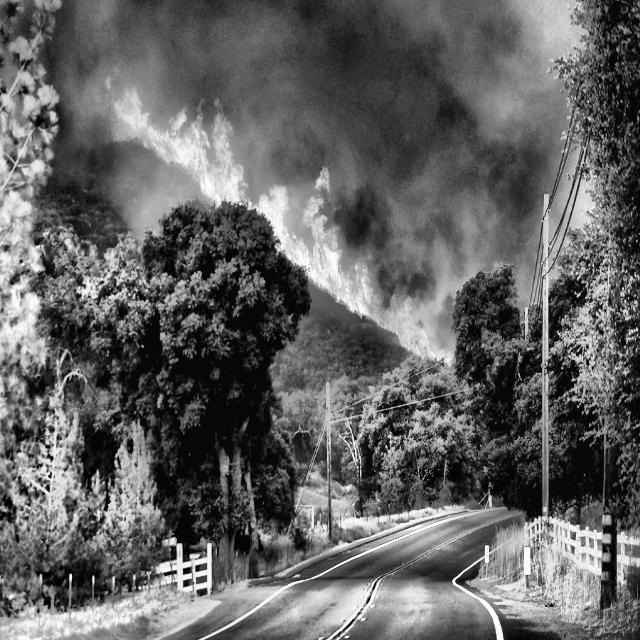fire: (110, 87, 530, 493)
